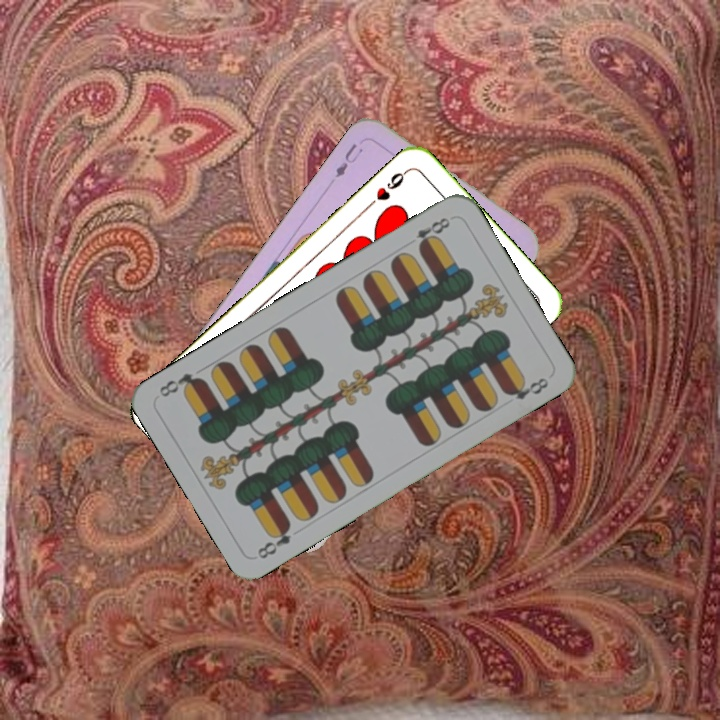E8: (253, 518, 294, 562), (411, 213, 455, 253)
EU: (331, 139, 366, 181)
H9: (364, 165, 411, 210)
